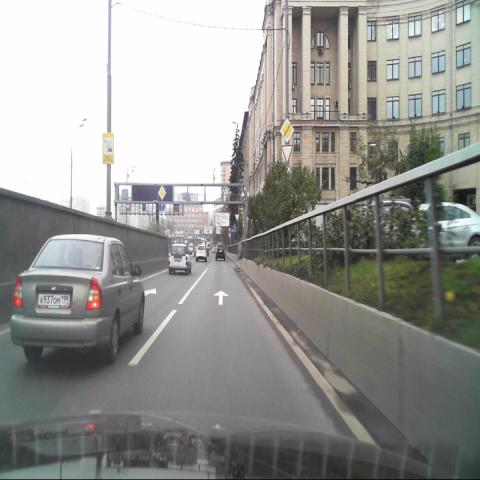2_2: (280, 118, 294, 142)
